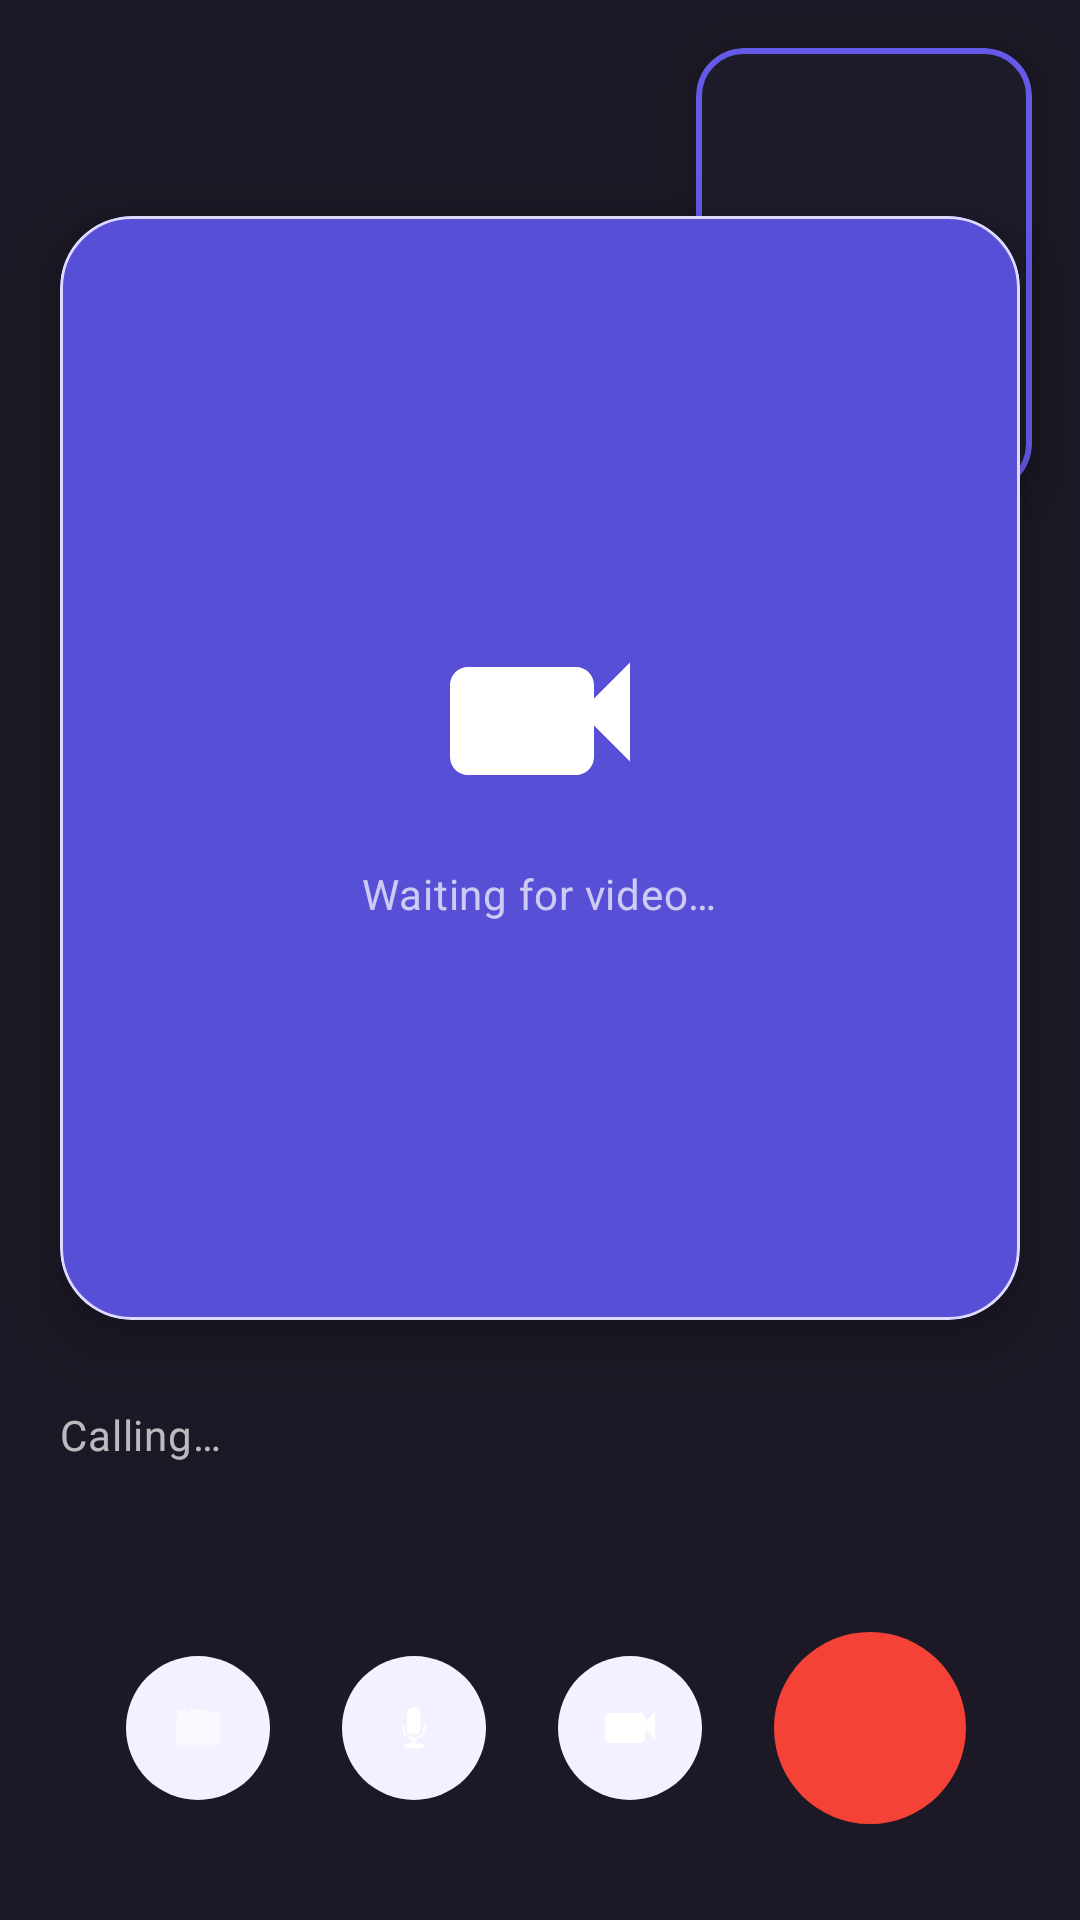

Where to tap for icons on this 1080px x 1920px app screen, as point (x, y):
Camera off: point (630, 1728)
Flip: point (198, 1728)
Mute: point (414, 1728)
videocam: point (540, 719)
